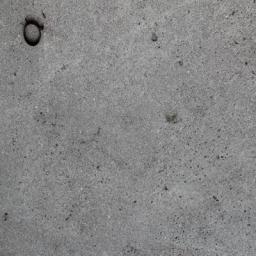FOD: (19, 16, 49, 50)
